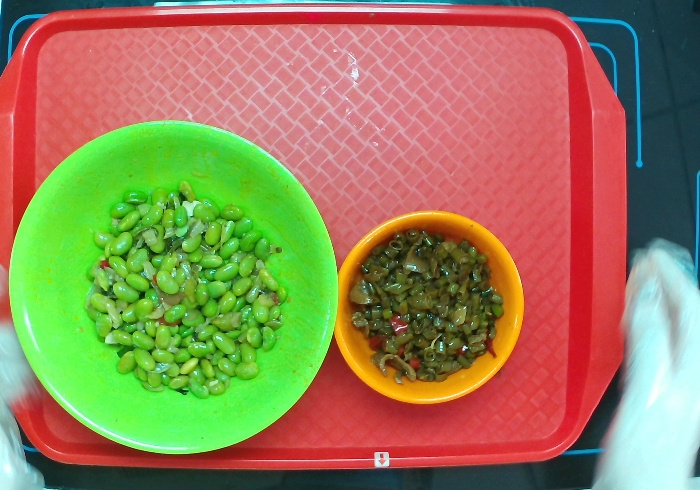YKMZ-Ju_Se_Yuan_Wan: (336, 208, 525, 409)
YKMZ-Lv_Se_Tang_Wan: (6, 117, 338, 455)
